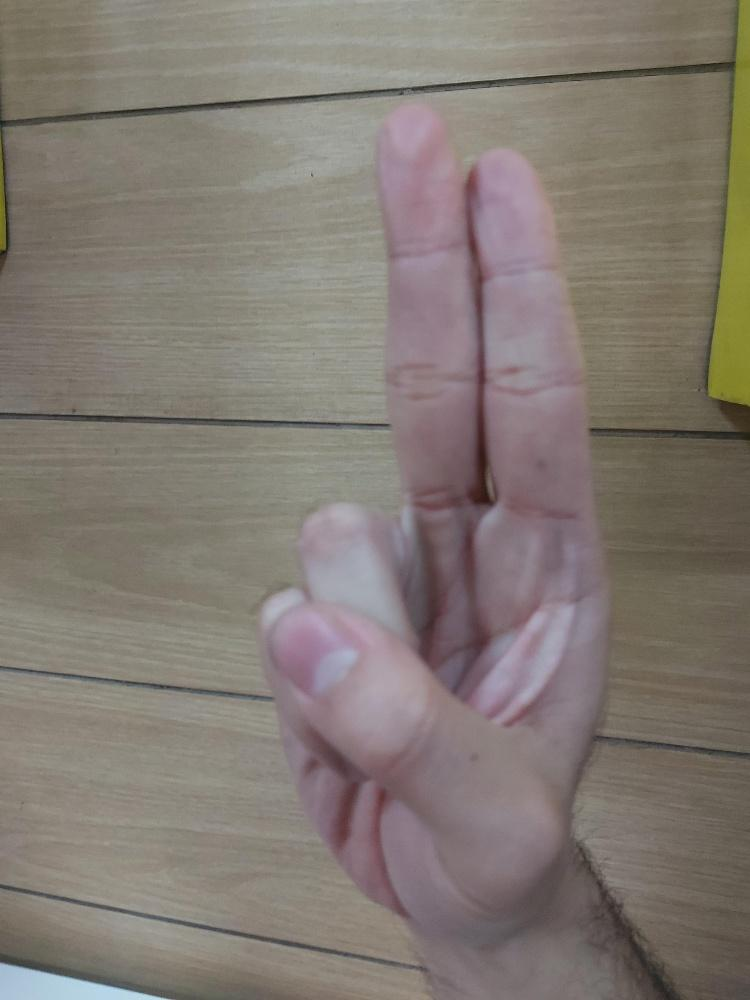u: (252, 100, 611, 933)
